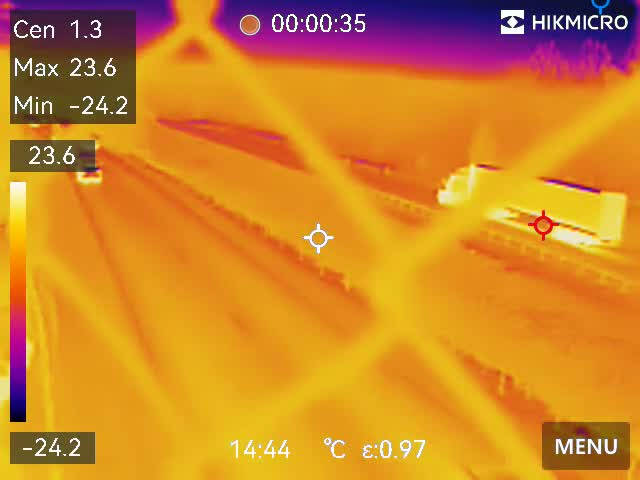heavyTruck: (439, 158, 630, 250)
vehicle: (73, 150, 109, 188)
